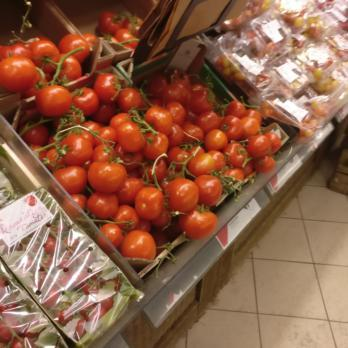Tomato: (42, 109, 256, 160), (2, 29, 96, 109), (52, 165, 224, 201), (85, 206, 188, 252)
